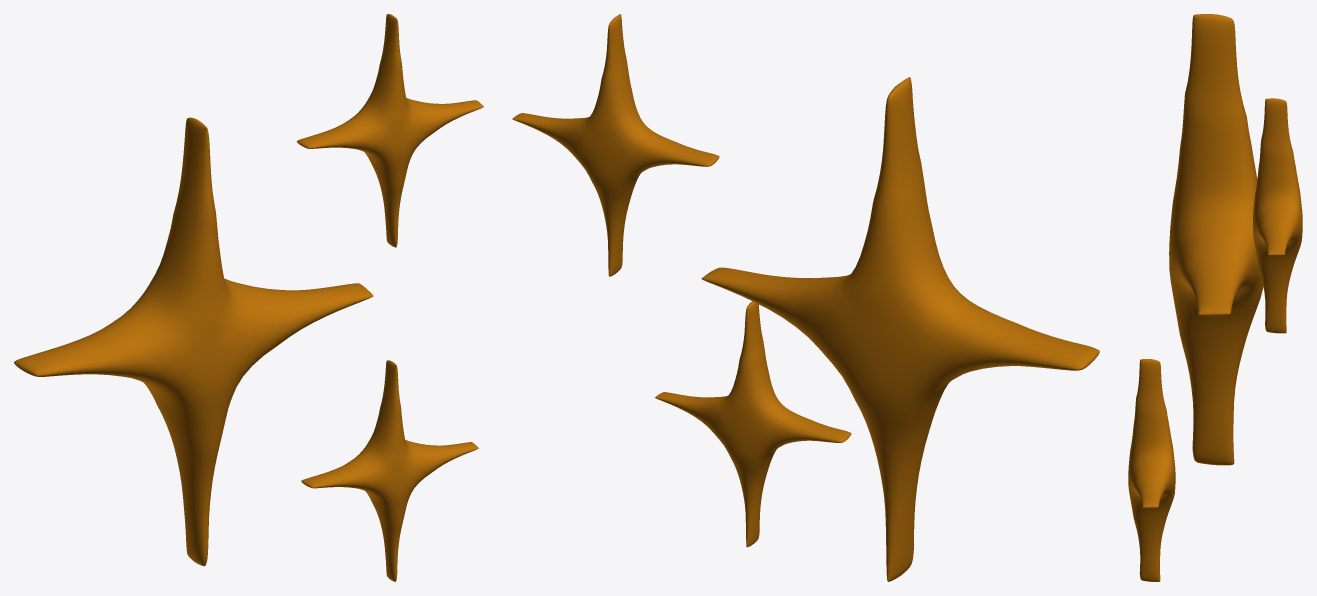
Rendered from stars.FBX.
3 renders of one model, left to right at view 1: azimuth 30°, elevation 25°; view 2: azimuth 150°, elevation 25°; view 3: azimuth 270°, elevation 25°, orthographic. The views are drawn at different scales.
Visible parts, largest first — view 1: Star3, Star2, stars; view 2: Star3, Star2, stars; view 3: Star3, Star2, stars.
Boxes of the visible parts, box(x1,y1,x2,y2) form: Star3: box(14, 117, 373, 566); Star2: box(297, 14, 483, 247); stars: box(301, 360, 478, 581); Star3: box(701, 77, 1099, 581); Star2: box(512, 14, 719, 276); stars: box(655, 301, 851, 547); Star3: box(1169, 14, 1263, 465); Star2: box(1253, 98, 1302, 333); stars: box(1128, 359, 1175, 581).
Size of the model in its own units: 24.82 by 24.48 by 7.53.
